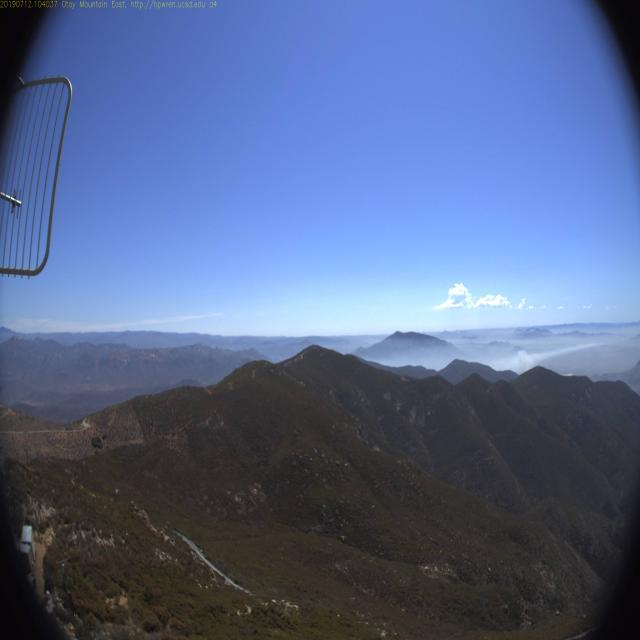smoke: (498, 335, 563, 390)
